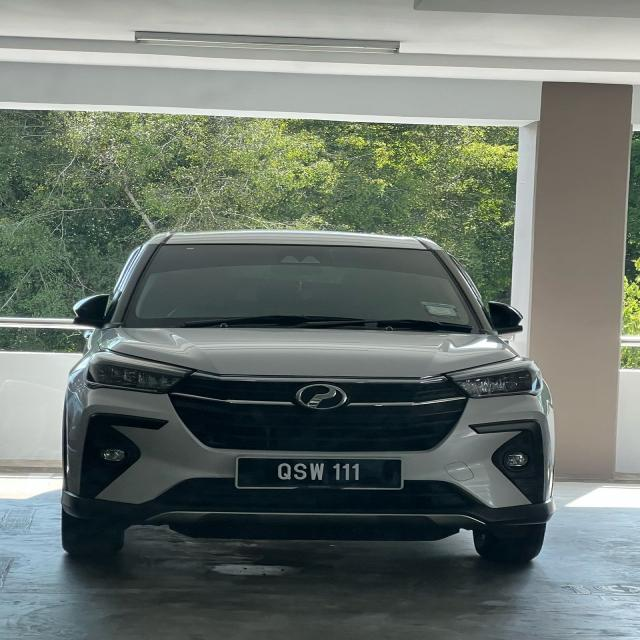PeroduaAtiva: (59, 228, 558, 564)
